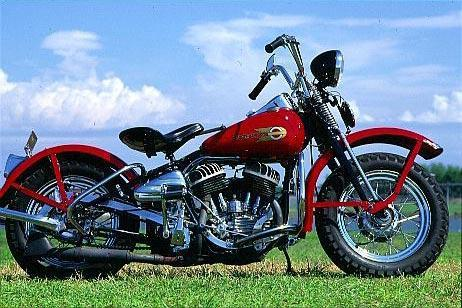motorcycle: (1, 36, 462, 287)
